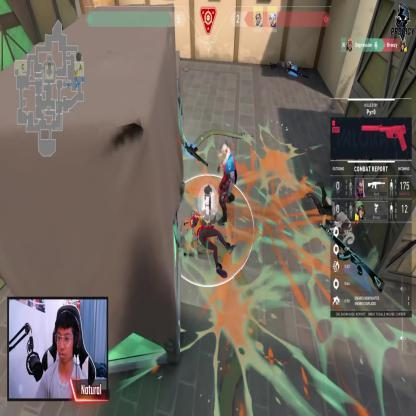enemy: (217, 144, 237, 224)
enemy_head: (220, 144, 228, 160)
